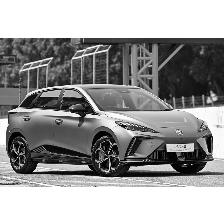EV: (8, 84, 216, 177)
